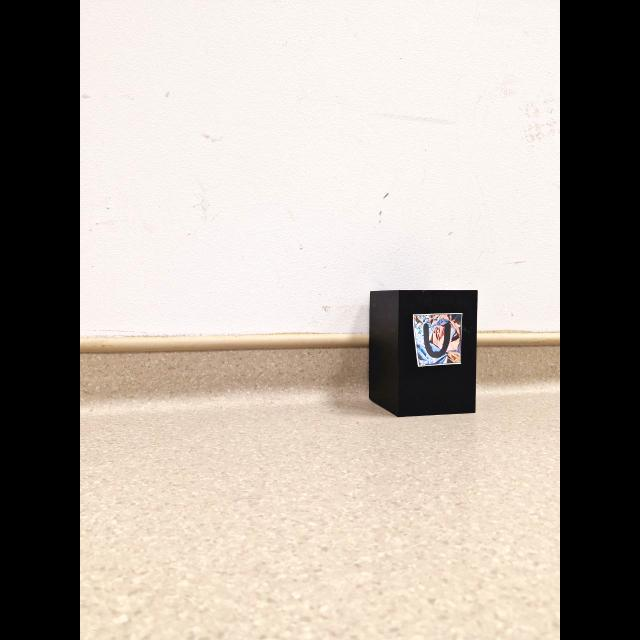U: (423, 323, 451, 358)
